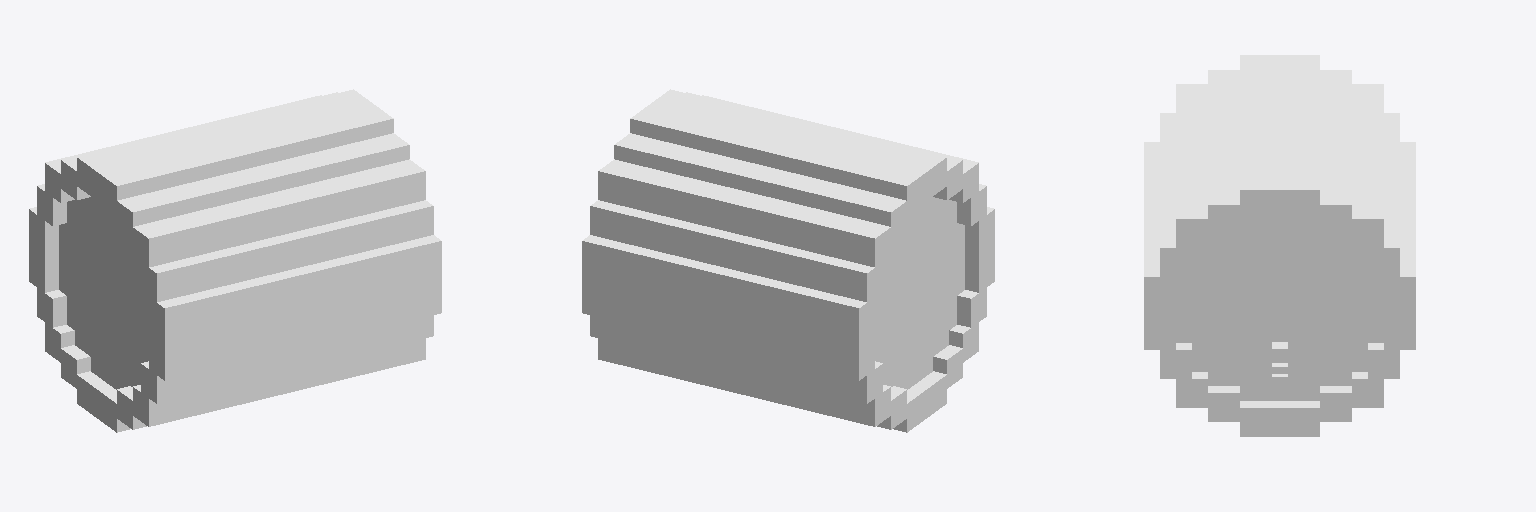
The model's file is beczkazl.obj.
3 renders of one model, left to right at view 1: azimuth 30°, elevation 25°; view 2: azimuth 150°, elevation 25°; view 3: azimuth 270°, elevation 25°, orthographic.
Visible parts, largest first — view 1: object 1; view 2: object 1; view 3: object 1.
Boxes of the visible parts, x1,y1,x2,y2 form: object 1: [29, 89, 441, 432]; object 1: [582, 89, 994, 432]; object 1: [1144, 55, 1415, 436].
Bounding box in the file's own units: 4.6 × 3.4 × 3.4.